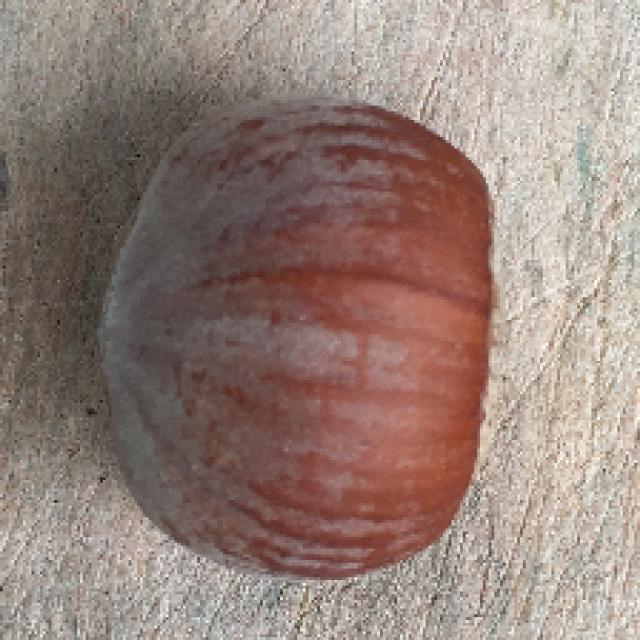qualityHazelnut: (101, 84, 500, 589)
